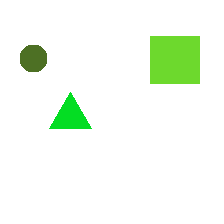circle: (20, 45, 46, 71)
rectangle: (150, 36, 199, 83)
triangle: (49, 92, 91, 128)
